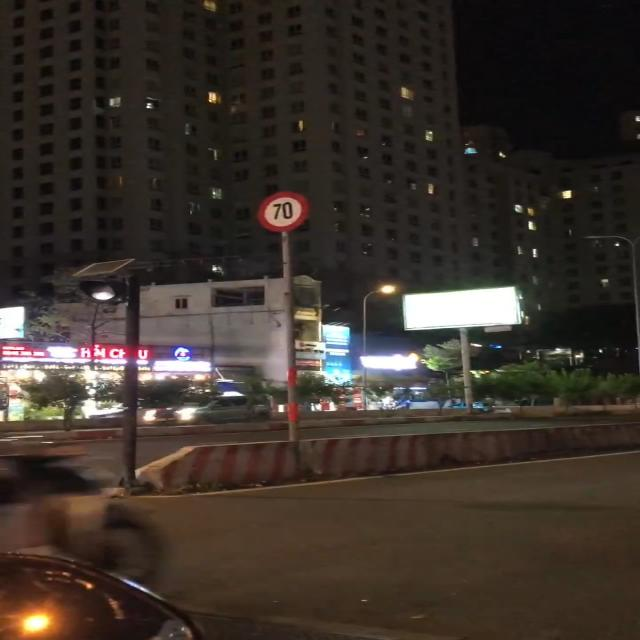Bien bao toc do toi da cho phep: (254, 186, 315, 235)
